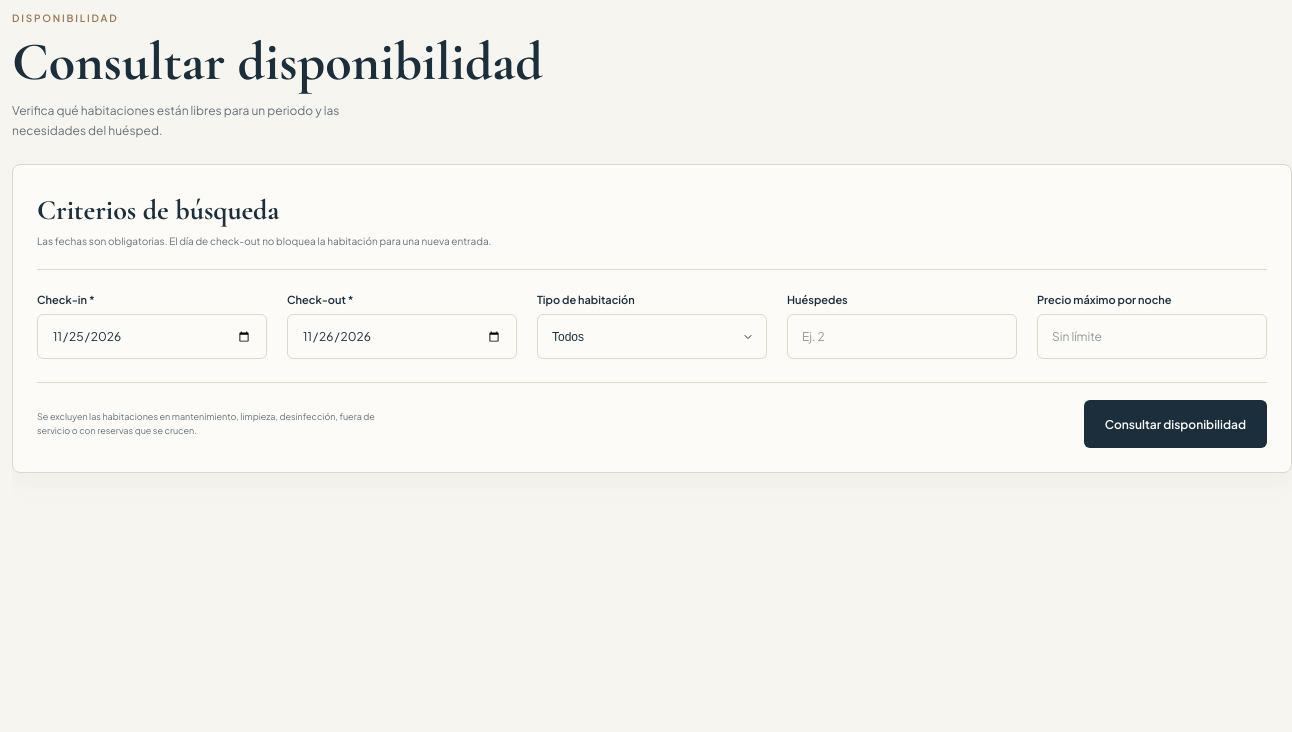
Test: AvailabilityPage › usa un mensaje claro si la falla no trae detalle
Click the button "Consultar disponibilidad" at {"x": 1175, "y": 424}, box [1084,400,1267,448]
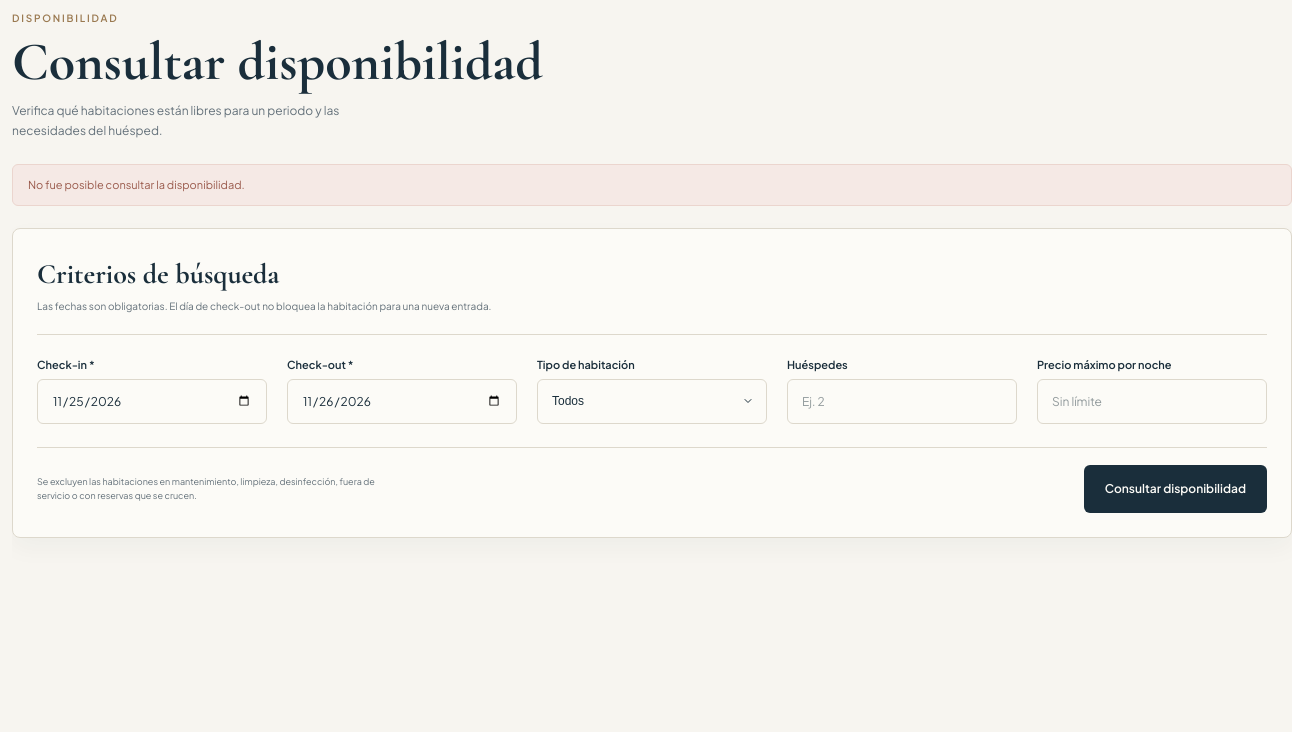
Expected: the text "No fue posible consultar la disponibilidad." is shown, [12,164,1291,206]
